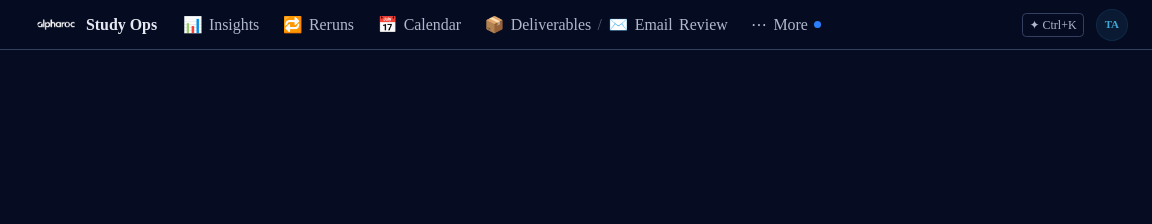
the account menu › shows the viewer’s initials and opens Admin and Sign out
Expected: the link "Sign out" is not shown
Click the button with aria-label "Account" at (1112, 25), box [1097,10,1127,40]
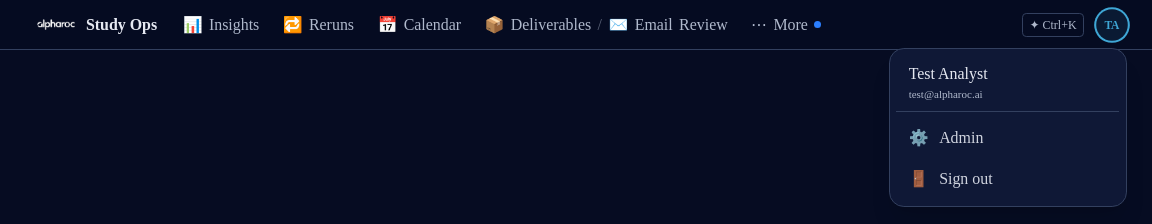
Expected: the button with aria-label "Account" is expanded, [1096,9,1127,40]
